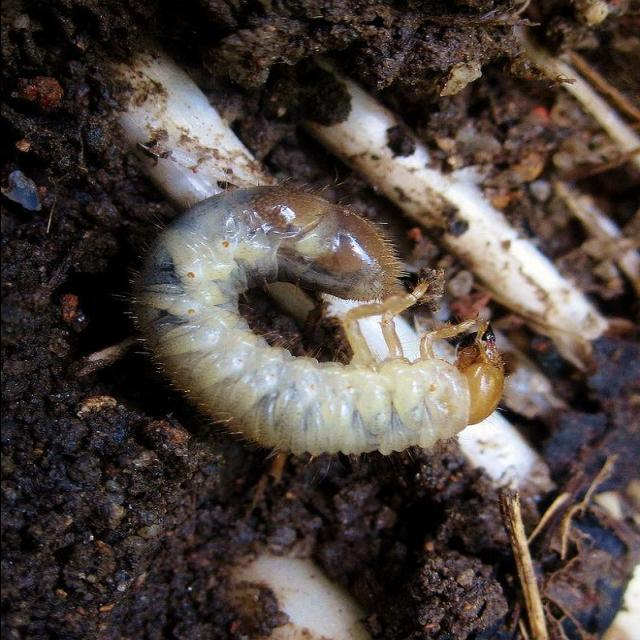grub: (148, 193, 513, 467)
